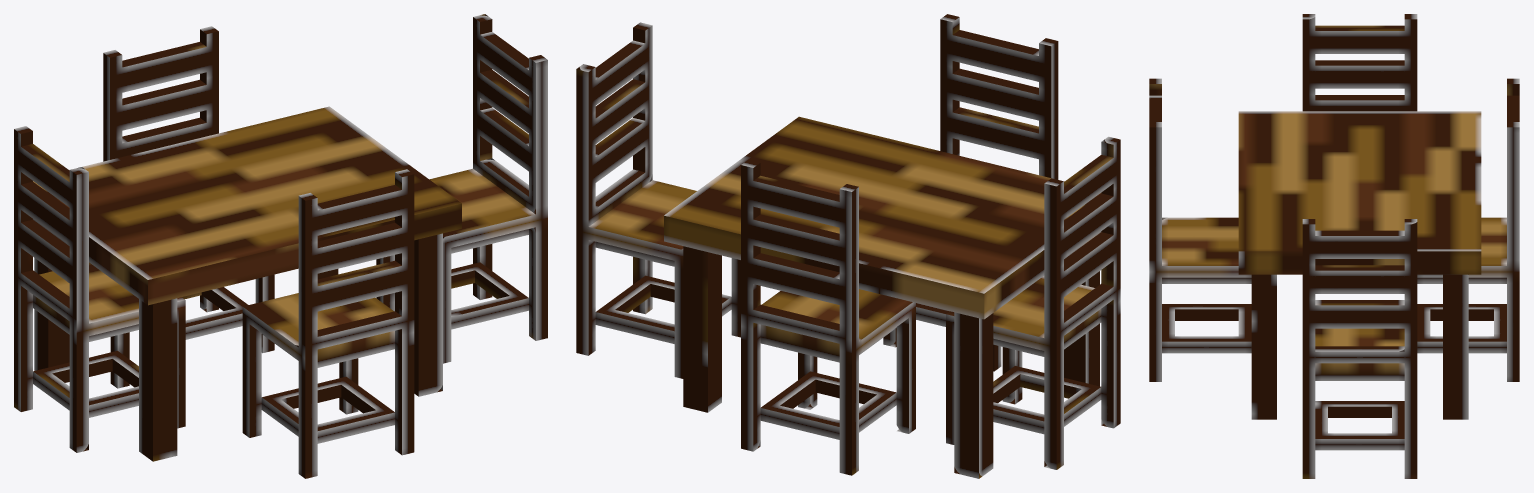
Rendered from MesaECadeiras.fbx.
3 views of the same model, side by side, from view 1: azimuth 30°, elevation 25°; view 2: azimuth 150°, elevation 25°; view 3: azimuth 270°, elevation 25° (orthographic). The views are drawn at different scales.
Visible parts, largest first — view 1: MesaECadeiras.001; view 2: MesaECadeiras.001; view 3: MesaECadeiras.001.
Boxes of the visible parts, x1,y1,x2,y2 form: MesaECadeiras.001: (14,14,547,478); MesaECadeiras.001: (576,14,1120,478); MesaECadeiras.001: (1149,14,1519,478).
Bounding box in the file's own units: 3.9 × 2.2 × 2.9.
1 material, 1 textured.
